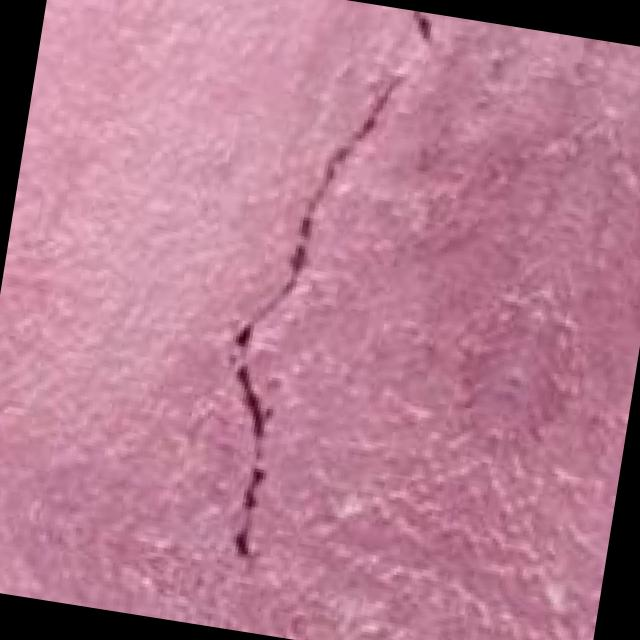crack: (169, 0, 462, 587)
